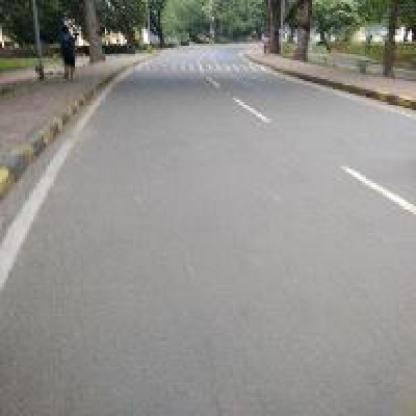Speed Bump: (133, 60, 256, 71)
